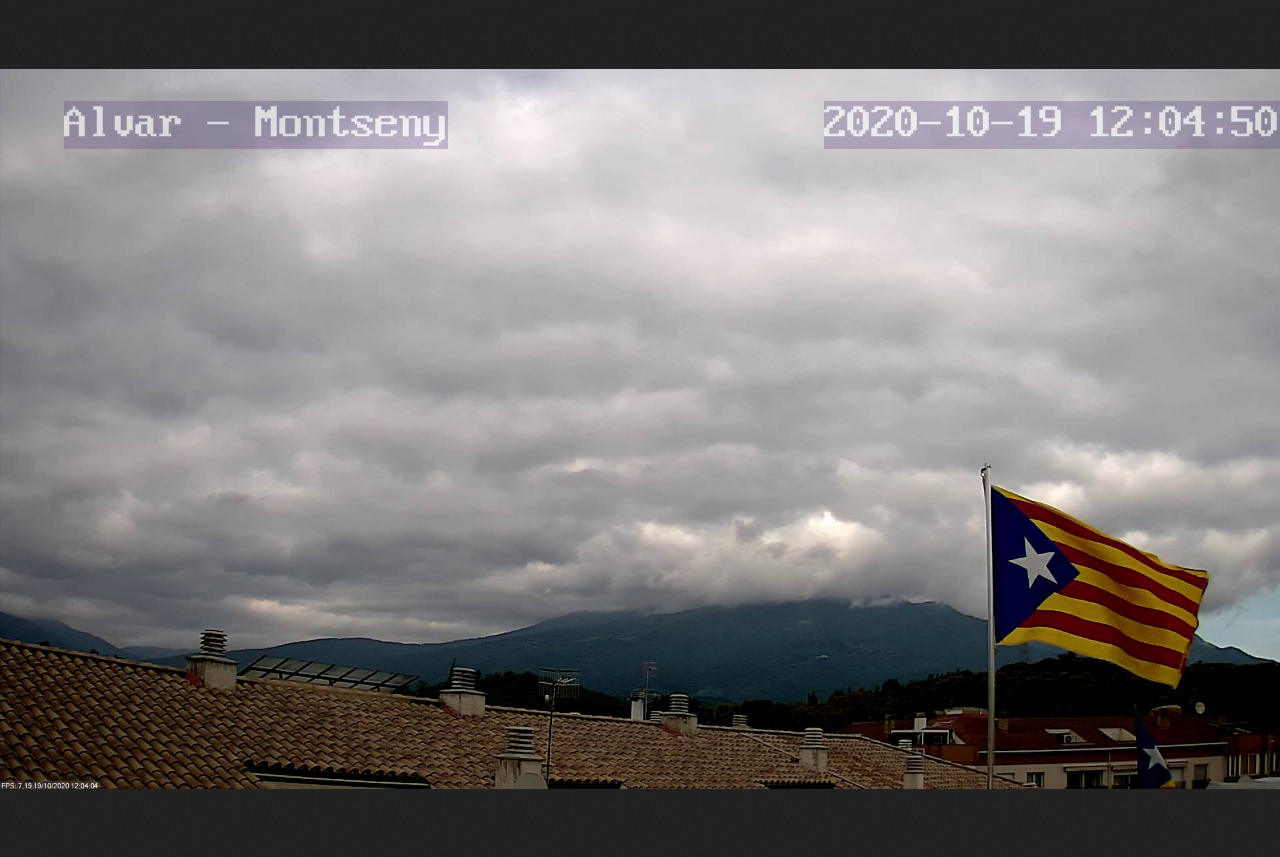maybe: (971, 454, 1222, 703)
